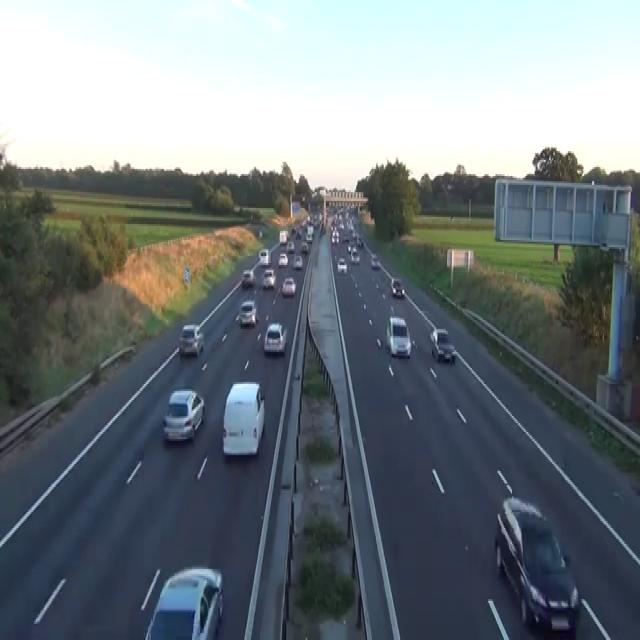Car: (493, 496, 580, 635), (143, 566, 223, 638), (222, 380, 265, 457), (162, 387, 204, 441), (386, 315, 411, 357), (429, 327, 456, 365), (179, 324, 204, 356), (263, 322, 287, 354), (235, 299, 257, 327), (281, 275, 296, 297), (390, 277, 404, 297), (262, 268, 276, 288), (241, 268, 255, 286), (258, 247, 270, 265), (337, 256, 347, 274), (370, 252, 380, 268), (278, 250, 288, 266), (292, 254, 303, 268), (350, 249, 359, 263), (331, 230, 339, 243), (300, 240, 308, 252), (286, 240, 294, 252), (347, 242, 356, 252), (319, 222, 325, 235), (356, 237, 363, 247), (313, 217, 319, 227), (296, 228, 302, 238), (343, 233, 349, 242), (351, 230, 357, 237), (291, 226, 296, 233), (347, 244, 351, 252), (259, 228, 262, 236)
